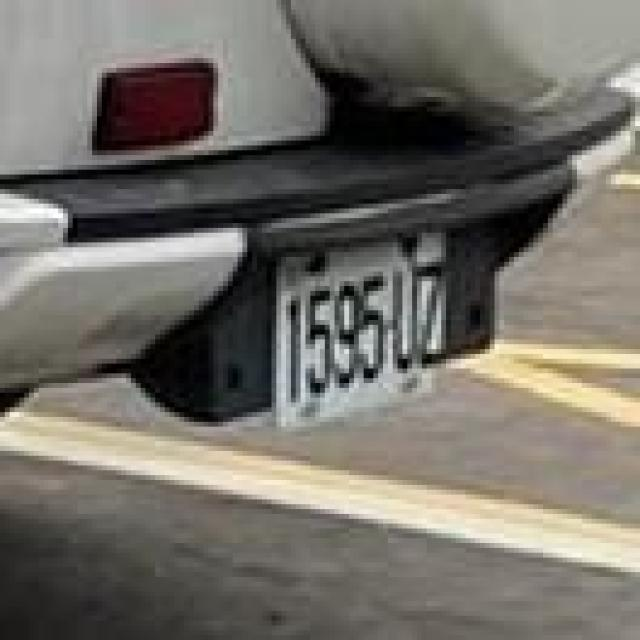W: (0, 5, 485, 174)
